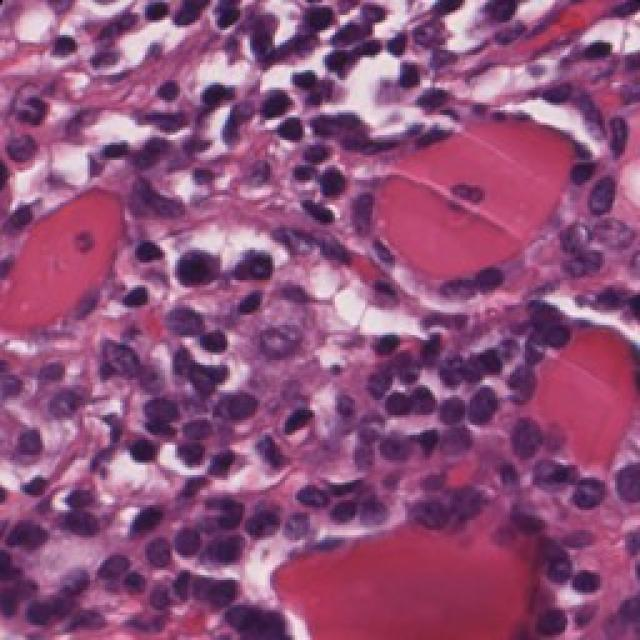normal: (326, 166, 402, 246), (50, 274, 130, 350), (470, 239, 528, 337), (516, 585, 612, 640), (489, 410, 565, 475), (556, 135, 621, 206), (484, 347, 559, 401), (560, 462, 615, 530)
